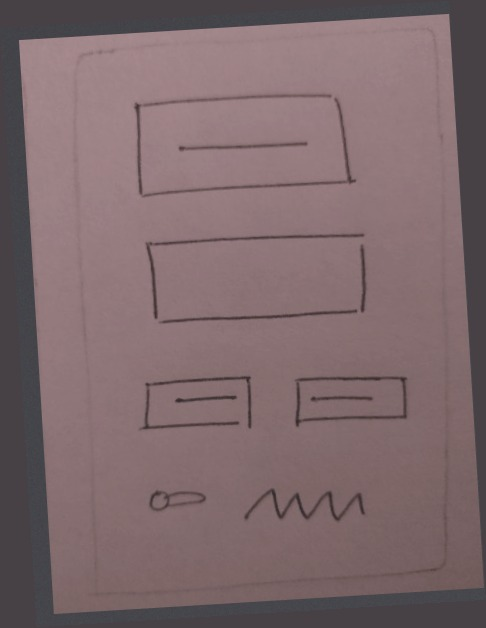button: (124, 75, 366, 213), (134, 367, 266, 442), (283, 365, 415, 437)
switch: (138, 476, 217, 522)
text: (236, 475, 375, 541)
text_input: (134, 221, 380, 335)
